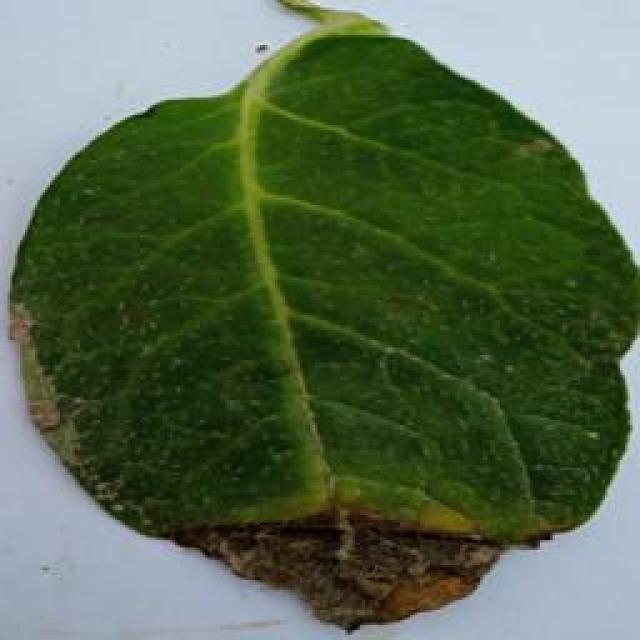Potato_Late_Blight: (9, 7, 624, 623)
